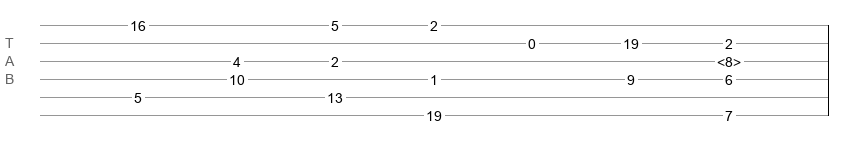0: (528, 36, 536, 46)
1: (430, 72, 438, 82)
10: (229, 72, 245, 82)
13: (327, 90, 343, 100)
16: (130, 18, 146, 28)
19: (426, 108, 442, 118), (623, 36, 639, 46)
2: (331, 54, 339, 64), (430, 18, 438, 28), (725, 36, 733, 46)
4: (233, 54, 241, 64)
5: (134, 90, 142, 100), (331, 18, 339, 28)
6: (725, 72, 733, 82)
7: (725, 108, 733, 118)
9: (627, 72, 635, 82)
harmonic: (717, 54, 741, 64)
